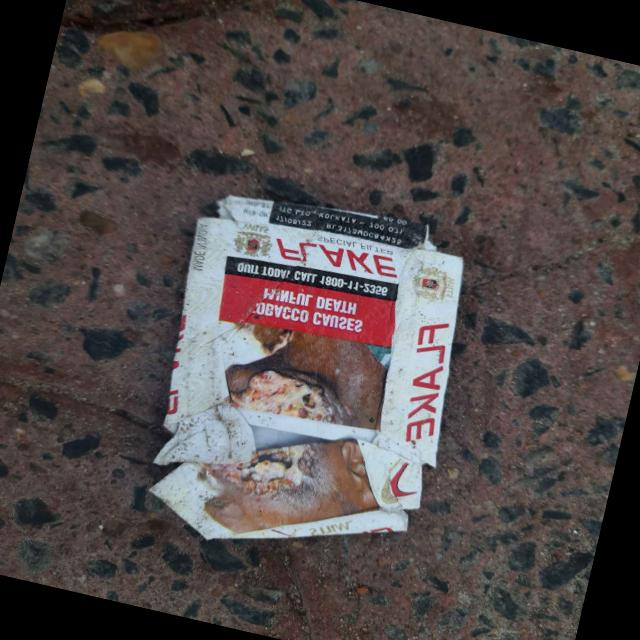ly_hop_giay: (149, 195, 463, 538)
